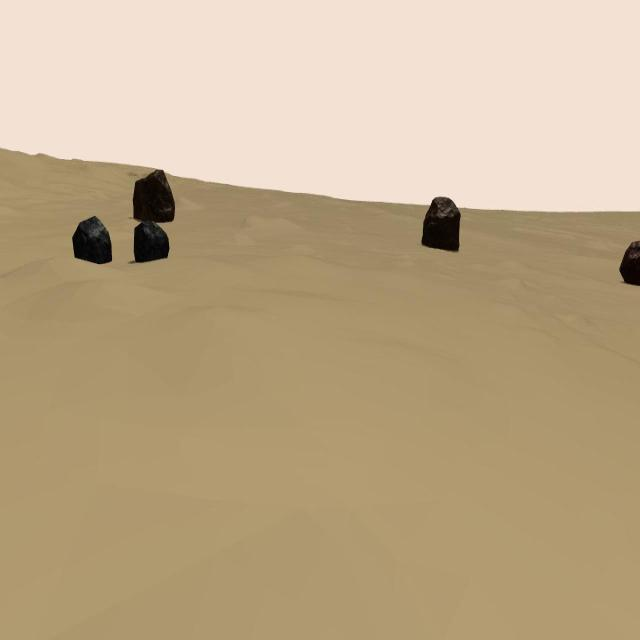rock: (132, 168, 175, 222), (422, 196, 461, 252), (72, 216, 112, 264), (134, 220, 170, 263), (619, 241, 640, 284)
